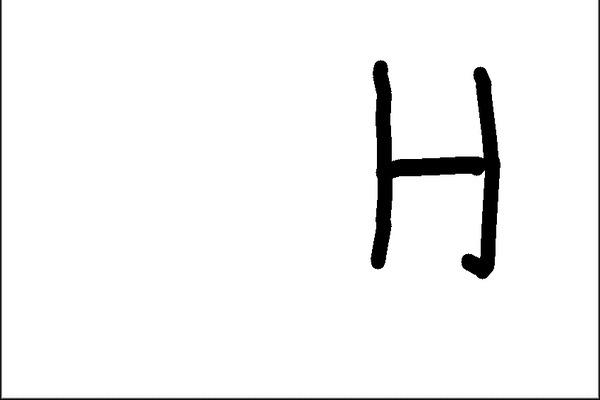H: (361, 46, 507, 289)
